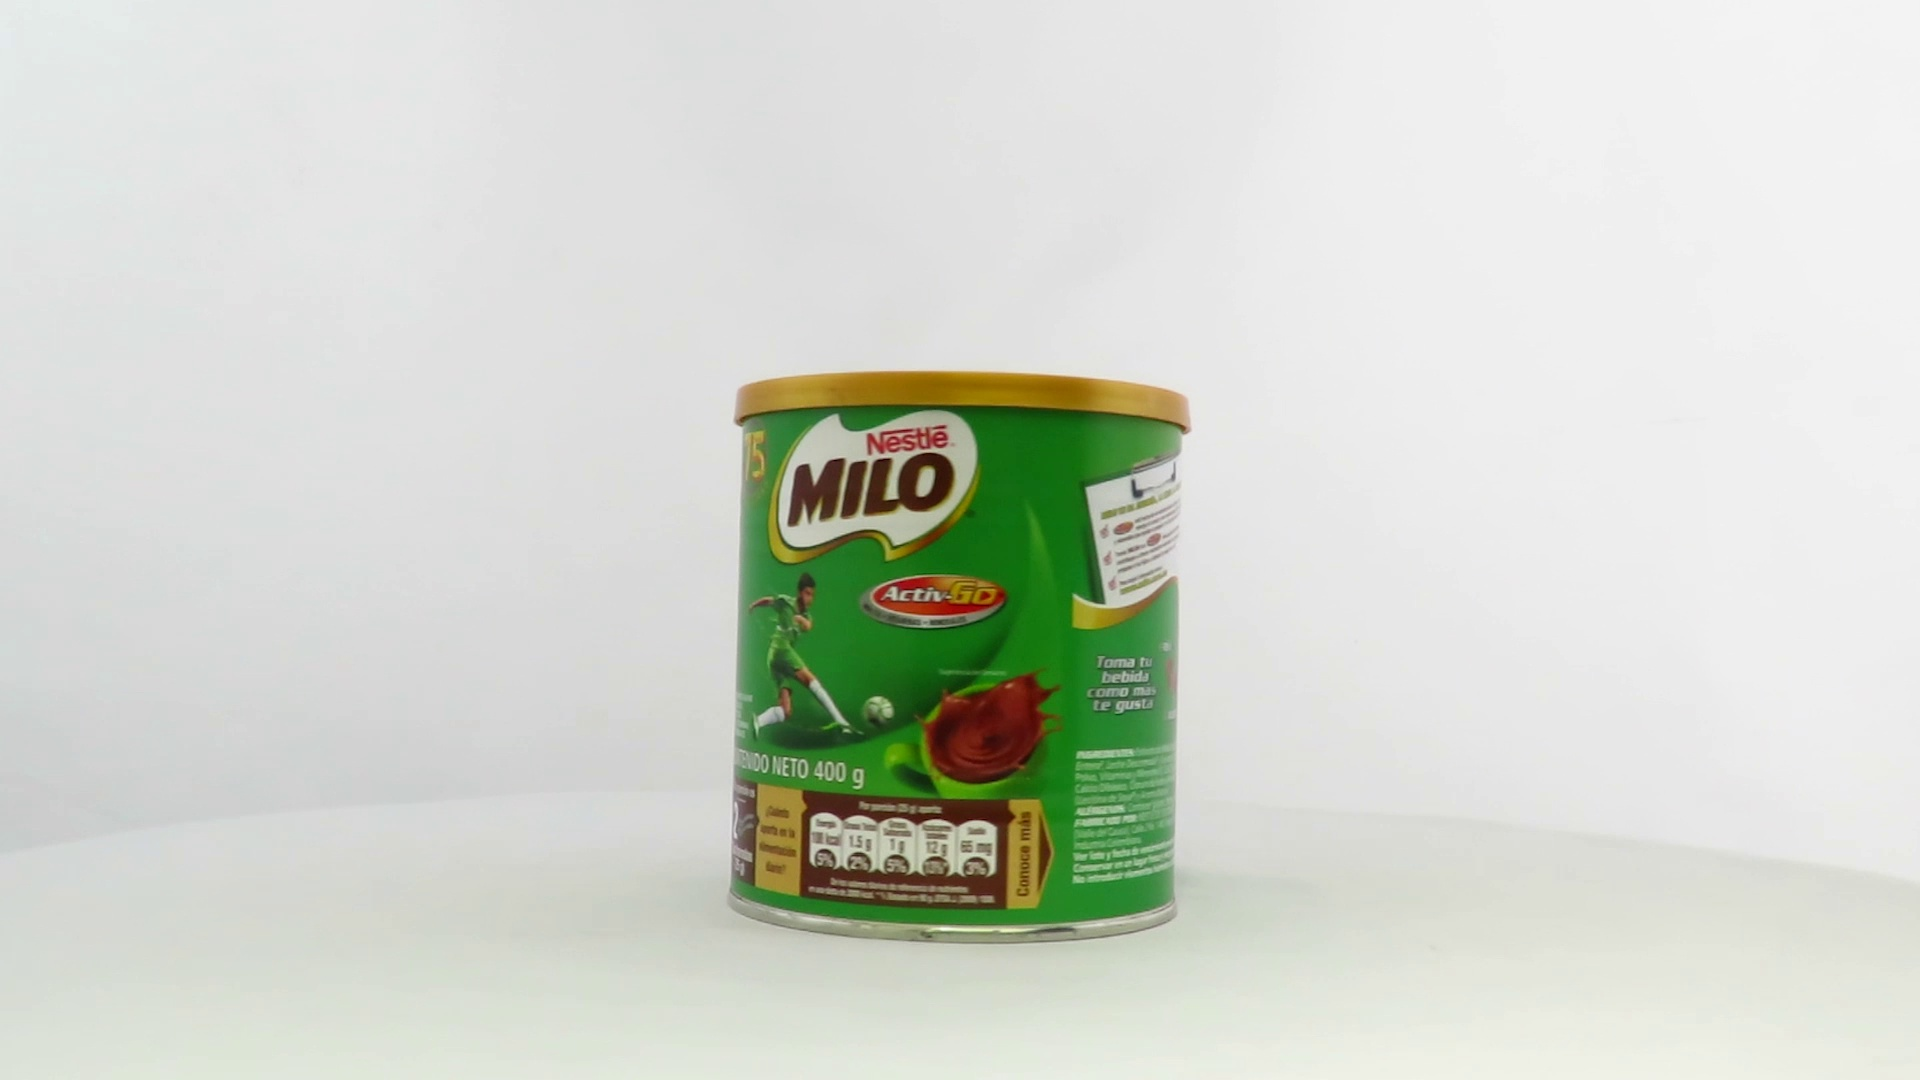COL0170203LAT40000: (721, 367, 1197, 951)
